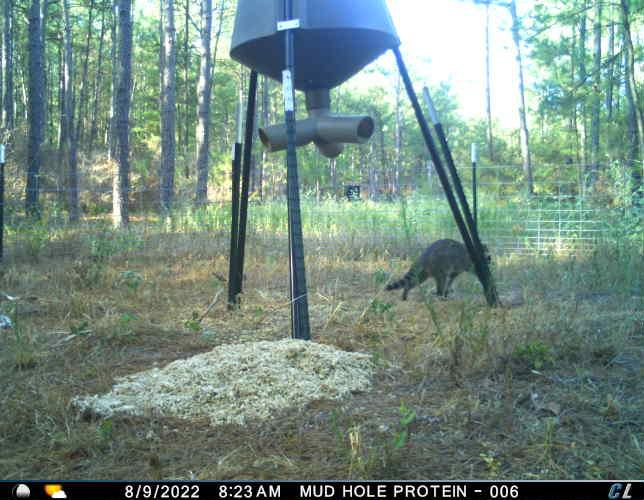Raccoon: (383, 236, 493, 304)
